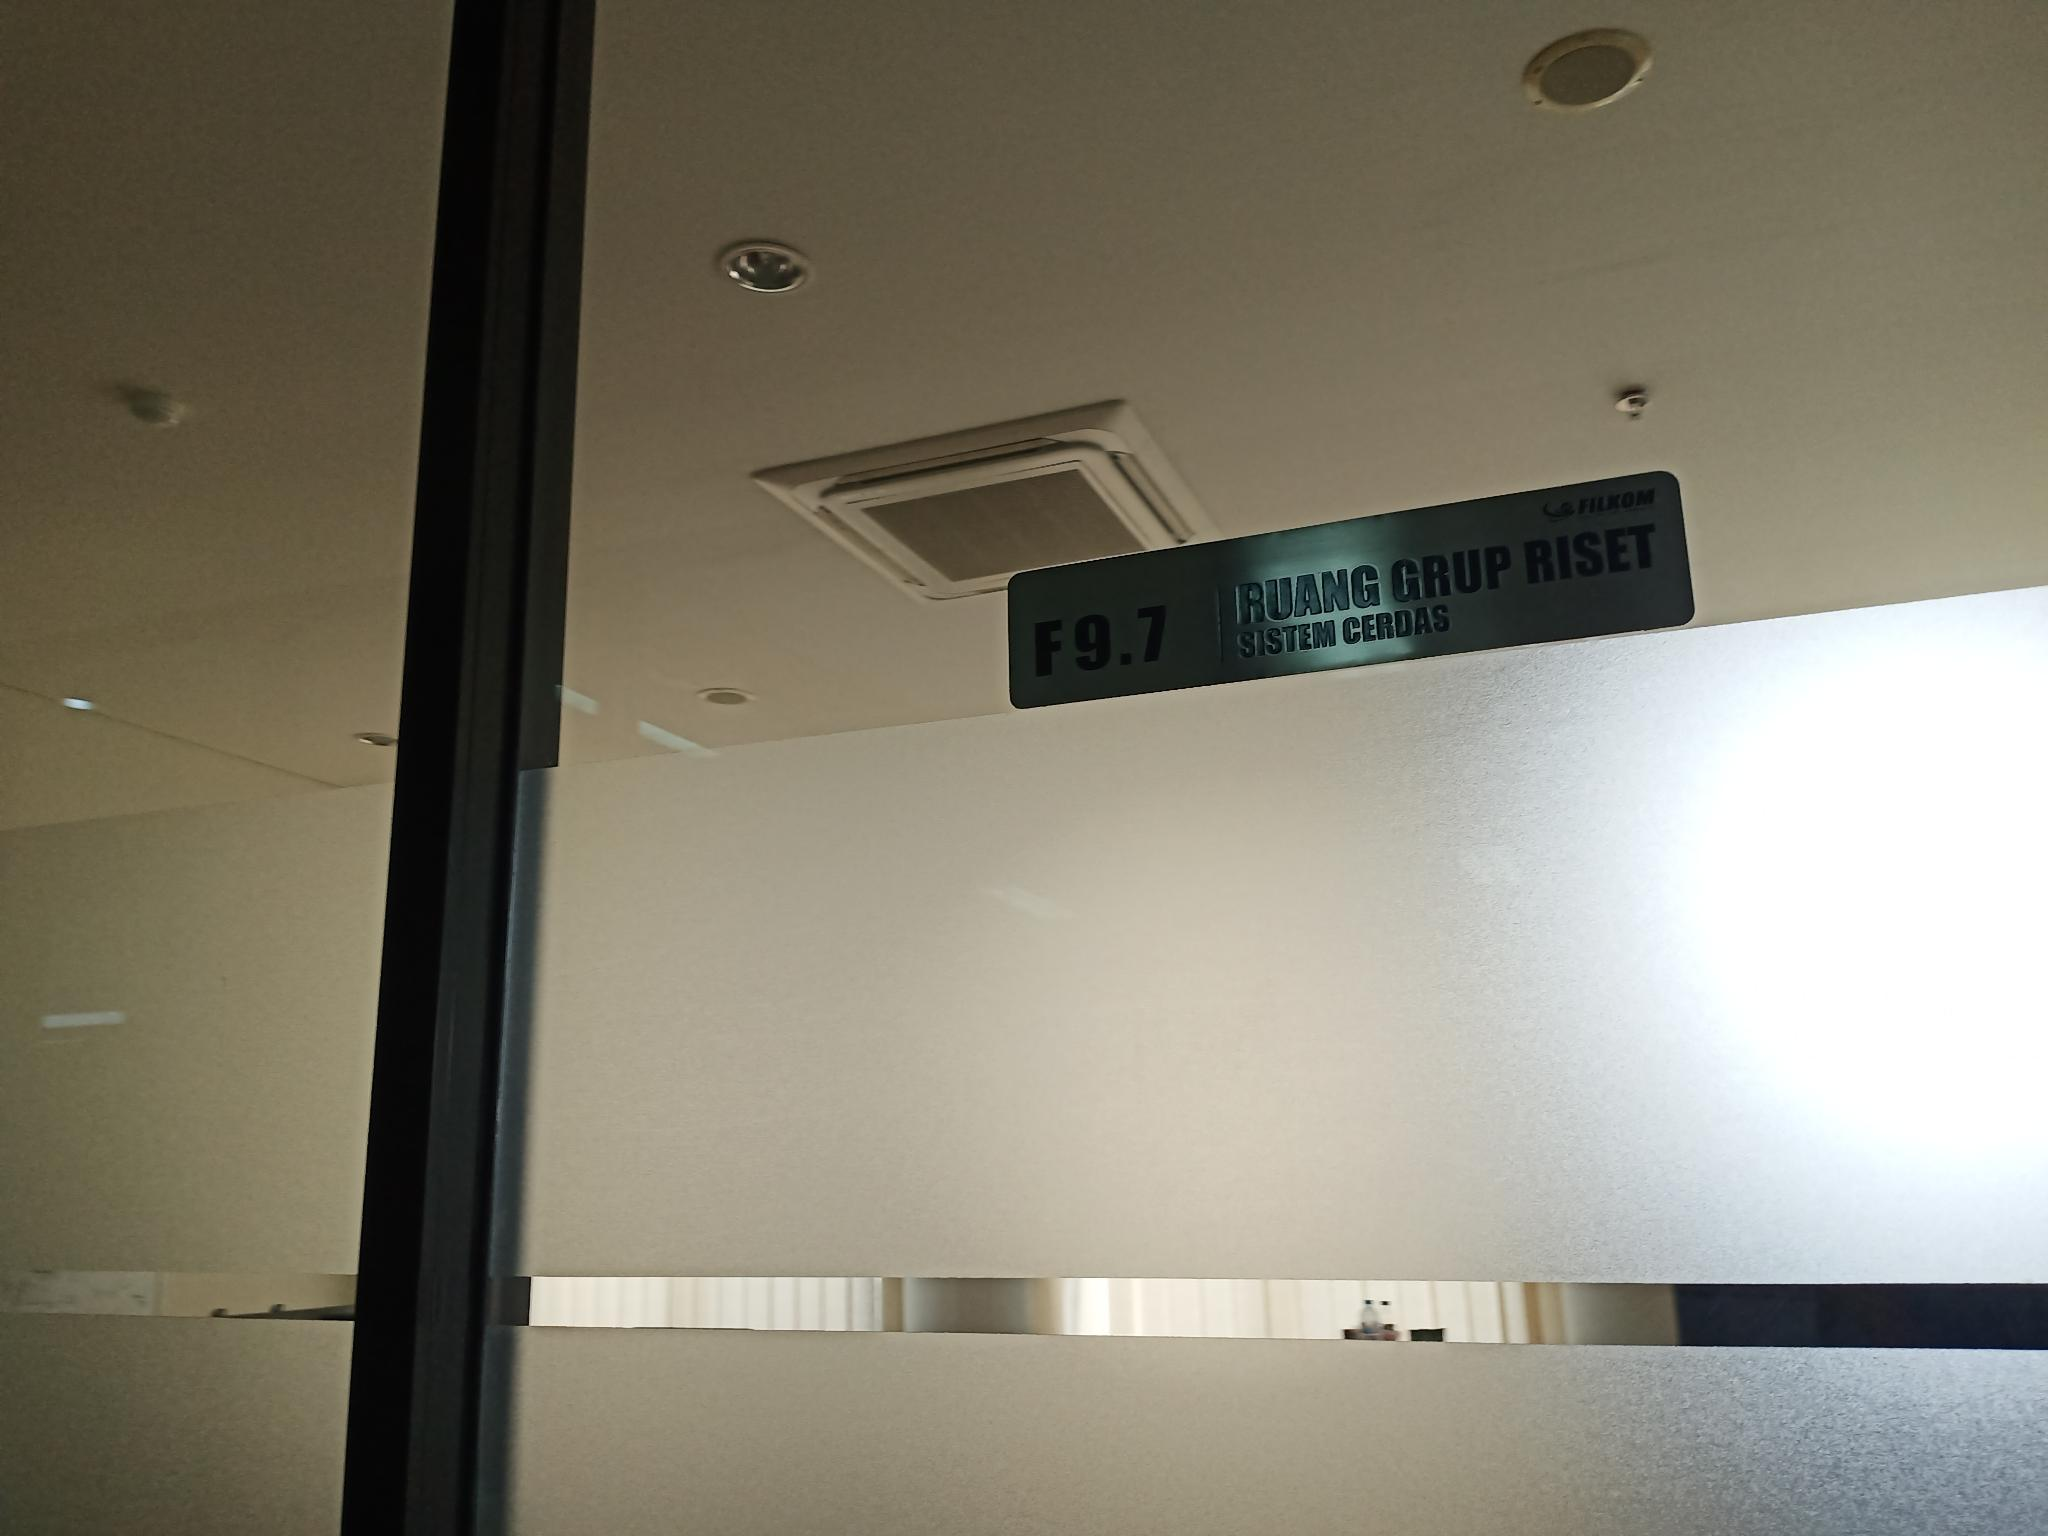plate: (1006, 465, 1695, 710)
